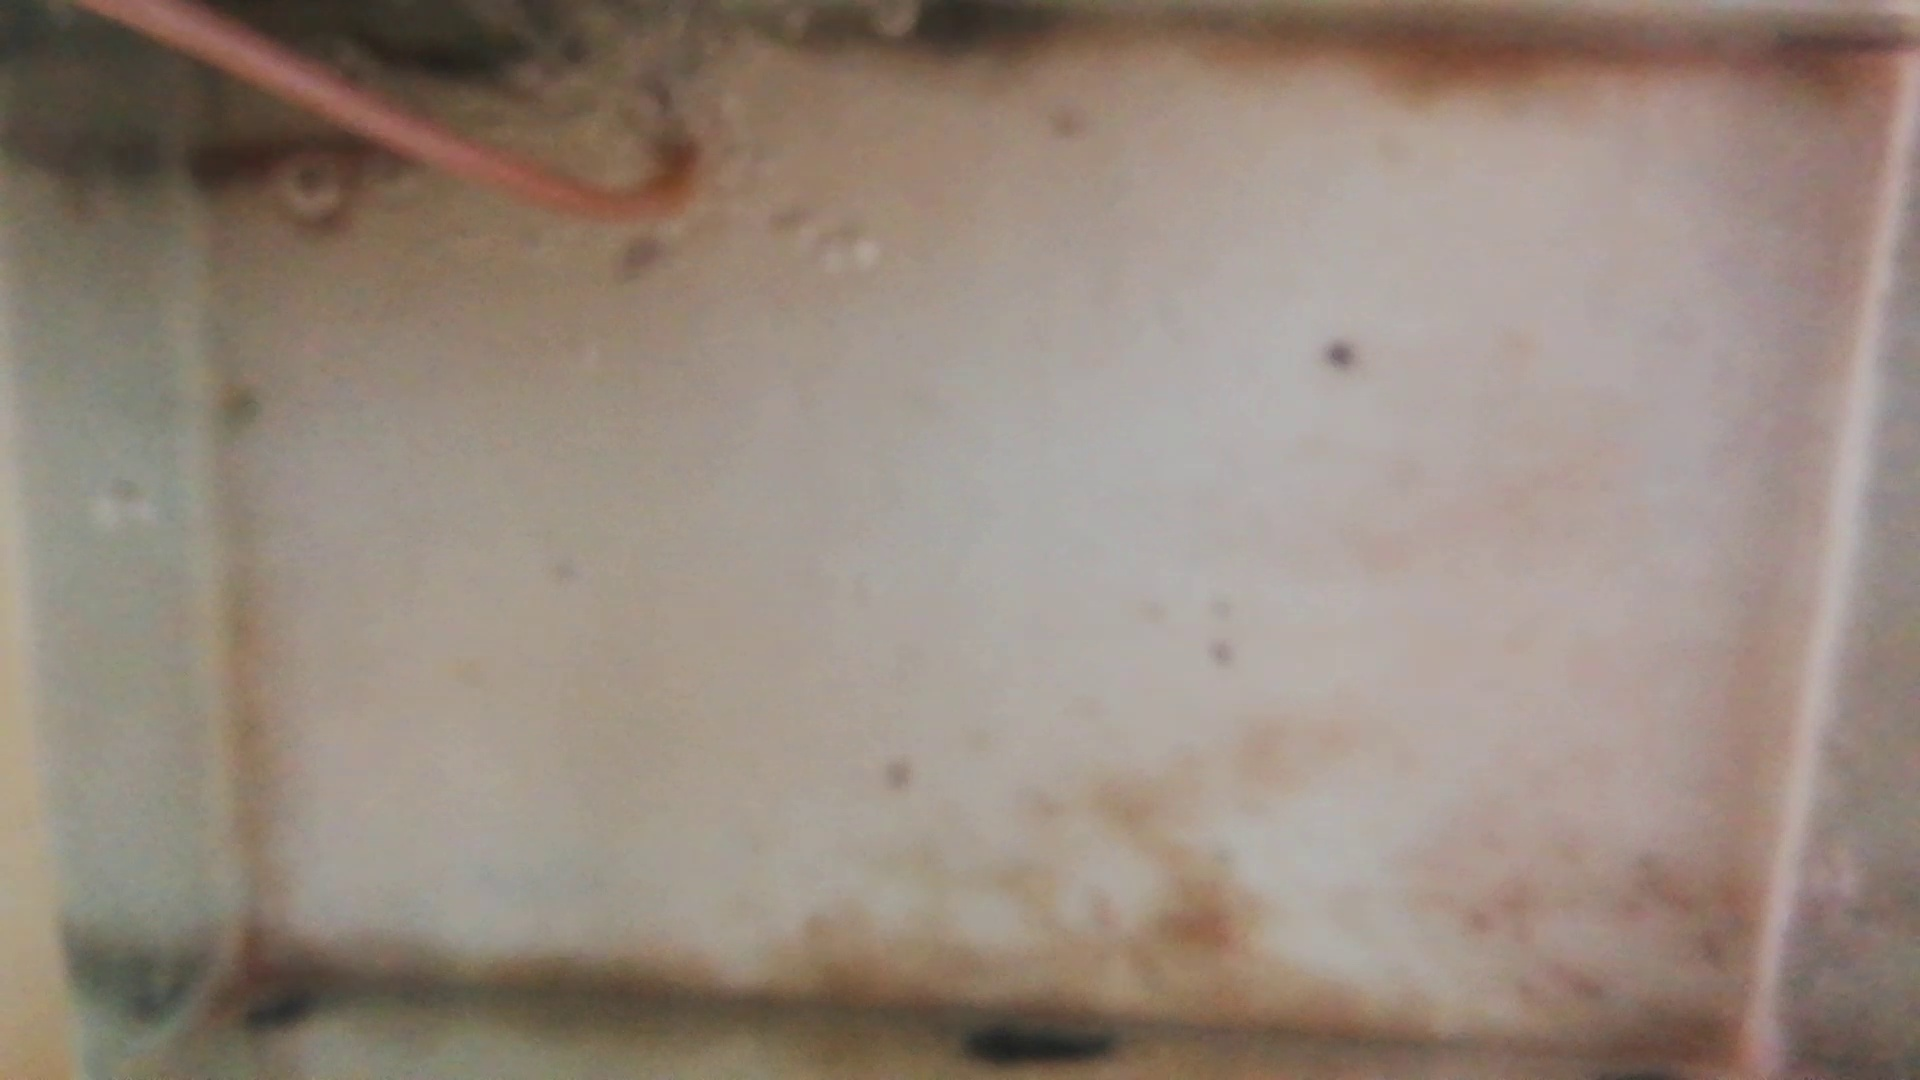fish: (187, 133, 397, 189), (400, 36, 568, 94)
